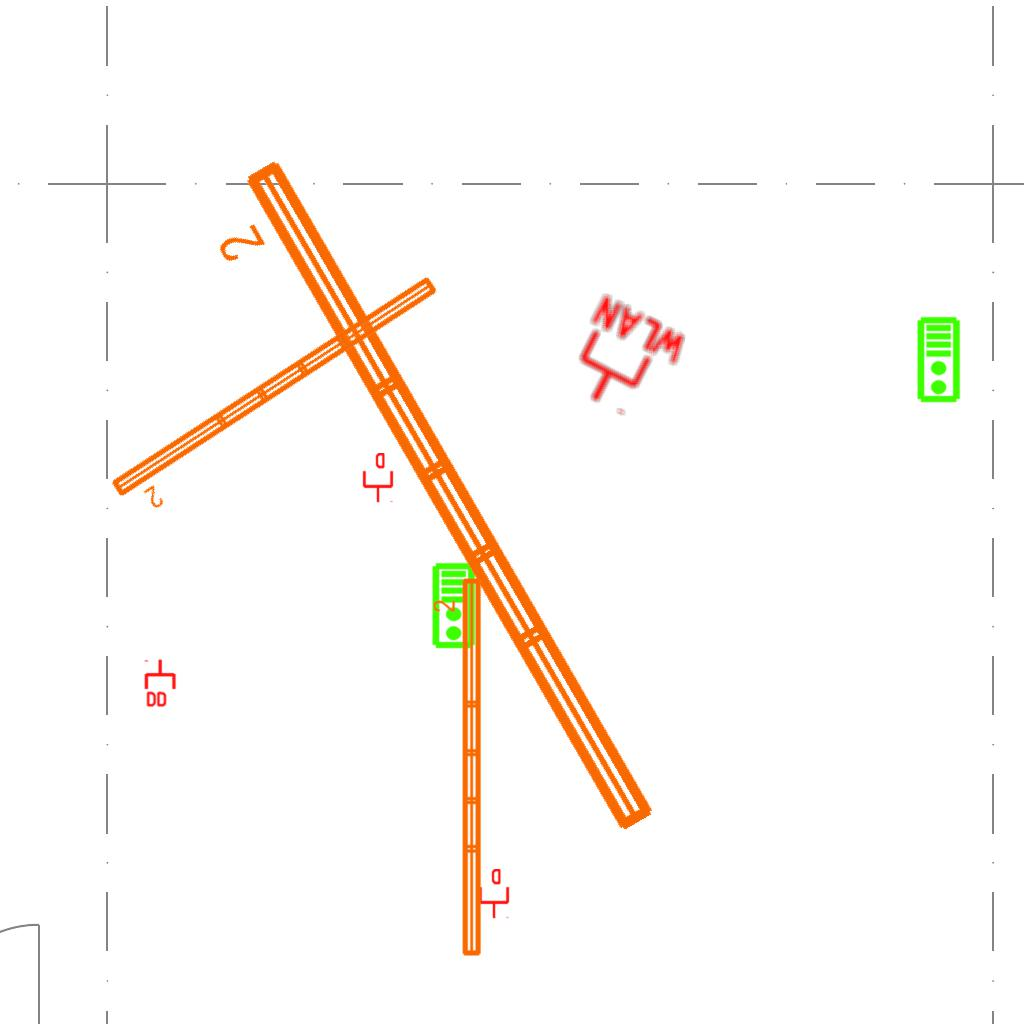Ambulanz_Pendelleuchte_LED: (186, 145, 670, 873), (103, 268, 460, 526), (431, 574, 487, 961)
Datenanschluss_einfach: (477, 869, 511, 919), (361, 453, 395, 503)
Datenanschluss_zweifach: (144, 658, 178, 709)
Gegensprechanlage_mit_Video: (431, 562, 478, 650), (916, 316, 963, 404)
WLAN: (554, 290, 695, 432)
